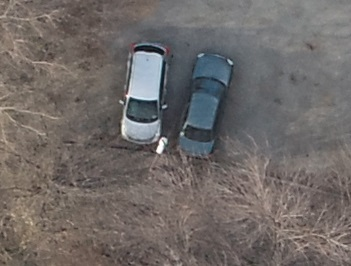opora: (149, 136, 178, 183)
